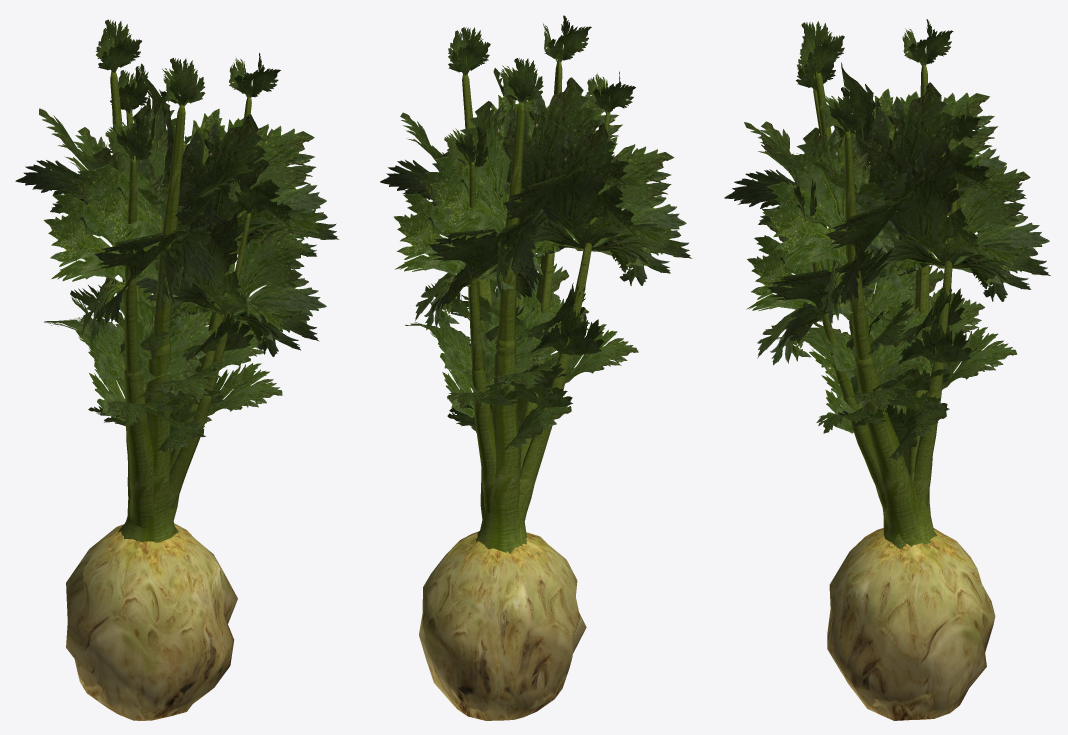
3 renders of one model, left to right at view 1: azimuth 30°, elevation 25°; view 2: azimuth 150°, elevation 25°; view 3: azimuth 270°, elevation 25°, orthographic. The views are drawn at different scales.
Visible parts, largest first — view 1: VG02_3; view 2: VG02_3; view 3: VG02_3.
Boxes of the visible parts, box(x1,y1,x2,y2) form: VG02_3: box(15, 19, 339, 720); VG02_3: box(380, 15, 692, 720); VG02_3: box(724, 19, 1050, 720).
Size of the model in its own units: 0.1148 by 0.2542 by 0.1115.
